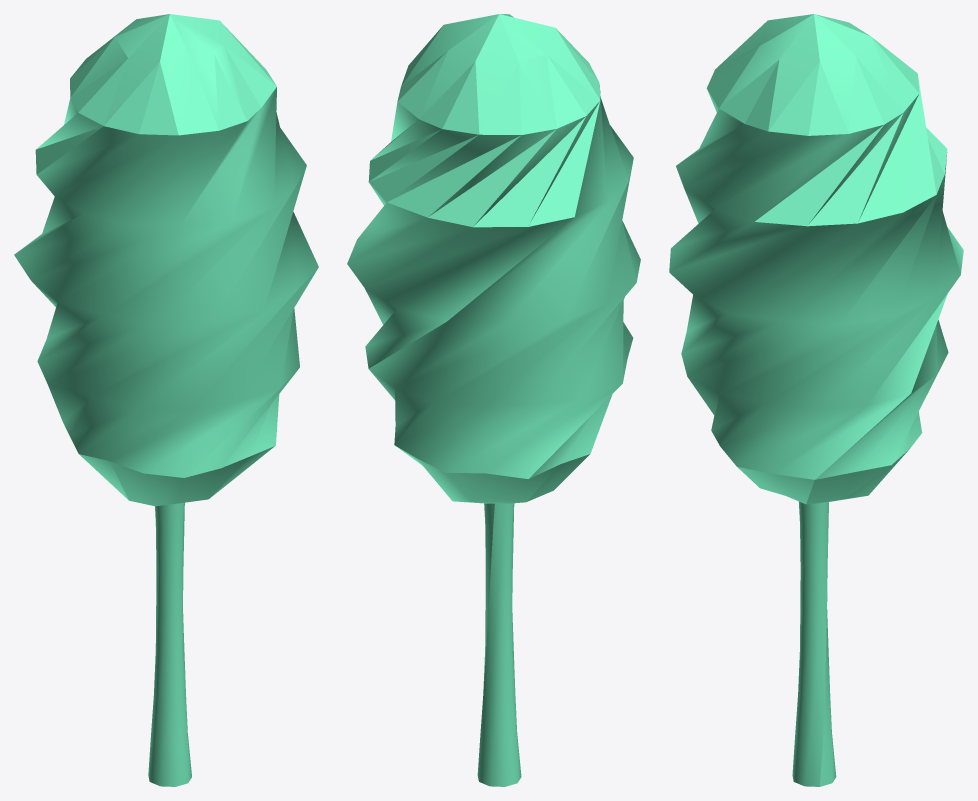
The model's file is trees.dae.
The picture shows the model from 3 angles, left to right: view 1: azimuth 30°, elevation 25°; view 2: azimuth 150°, elevation 25°; view 3: azimuth 270°, elevation 25°; orthographic projection.
Parts seen in each view (by area): view 1: g tree leaves leaves1, g tree trunk trunk1; view 2: g tree leaves leaves1, g tree trunk trunk1; view 3: g tree leaves leaves1, g tree trunk trunk1.
Boxes of the visible parts, bbox=[...] form: g tree leaves leaves1: bbox=[14, 14, 318, 506]; g tree trunk trunk1: bbox=[148, 502, 191, 786]; g tree leaves leaves1: bbox=[347, 14, 640, 503]; g tree trunk trunk1: bbox=[477, 503, 521, 786]; g tree leaves leaves1: bbox=[669, 14, 963, 504]; g tree trunk trunk1: bbox=[792, 501, 836, 786].
Bounding box in the file's own units: 1.4 × 1.4 × 4.02.
